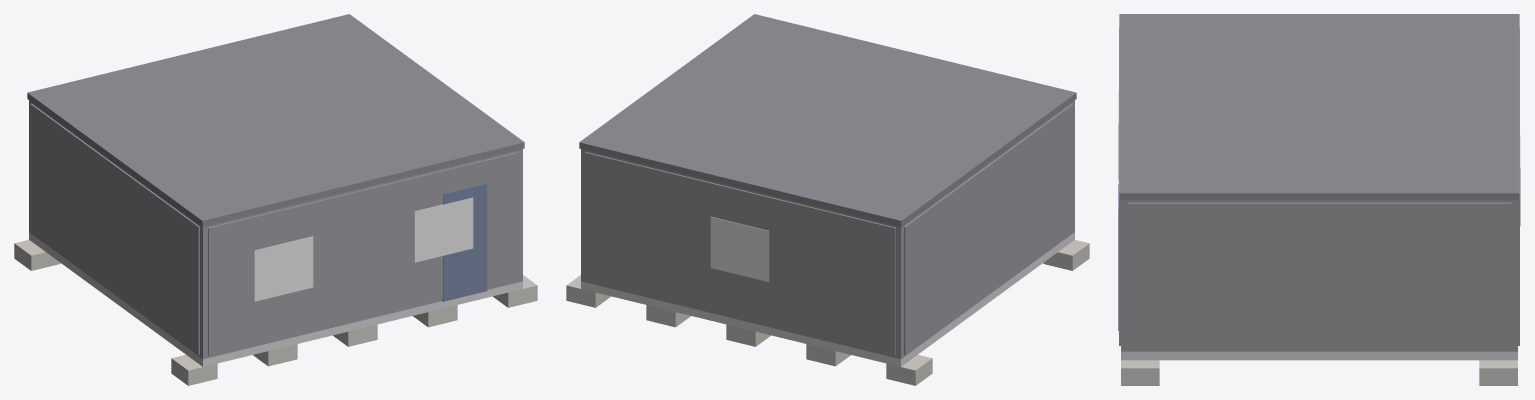
The model's file is Studio-20-Base-AncientWallGrey-LOD0.glb.
3 renders of one model, left to right at view 1: azimuth 30°, elevation 25°; view 2: azimuth 150°, elevation 25°; view 3: azimuth 270°, elevation 25°, orthographic. The views are drawn at different scales.
Parts seen in each view (by area): view 1: RoofMain, ExteriorPanelsStandard, WindowsStandard, FoundationBlocks, BaseFrame, ExteriorShell, EntryDoor; view 2: ExteriorPanelsStandard, RoofMain, FoundationBlocks, BaseFrame, ExteriorShell, WindowsStandard; view 3: RoofMain, ExteriorPanelsStandard, ExteriorShell, BaseFrame, FoundationBlocks.
Boxes of the visible parts, x1,y1,x2,y2 form: RoofMain: [27, 14, 524, 226]; ExteriorPanelsStandard: [30, 103, 518, 355]; WindowsStandard: [254, 197, 473, 301]; FoundationBlocks: [14, 240, 537, 385]; BaseFrame: [29, 232, 522, 366]; ExteriorShell: [29, 100, 522, 359]; EntryDoor: [442, 183, 487, 301]; ExteriorPanelsStandard: [585, 103, 1073, 355]; RoofMain: [579, 14, 1076, 226]; FoundationBlocks: [566, 240, 1089, 385]; BaseFrame: [581, 232, 1074, 366]; ExteriorShell: [581, 100, 1074, 359]; WindowsStandard: [710, 216, 769, 281]; RoofMain: [1119, 14, 1519, 200]; ExteriorPanelsStandard: [1119, 27, 1519, 349]; ExteriorShell: [1121, 200, 1517, 351]; BaseFrame: [1121, 351, 1517, 360]; FoundationBlocks: [1121, 360, 1517, 385].
Bounding box in the file's own units: 7.14 × 3.17 × 6.24.
